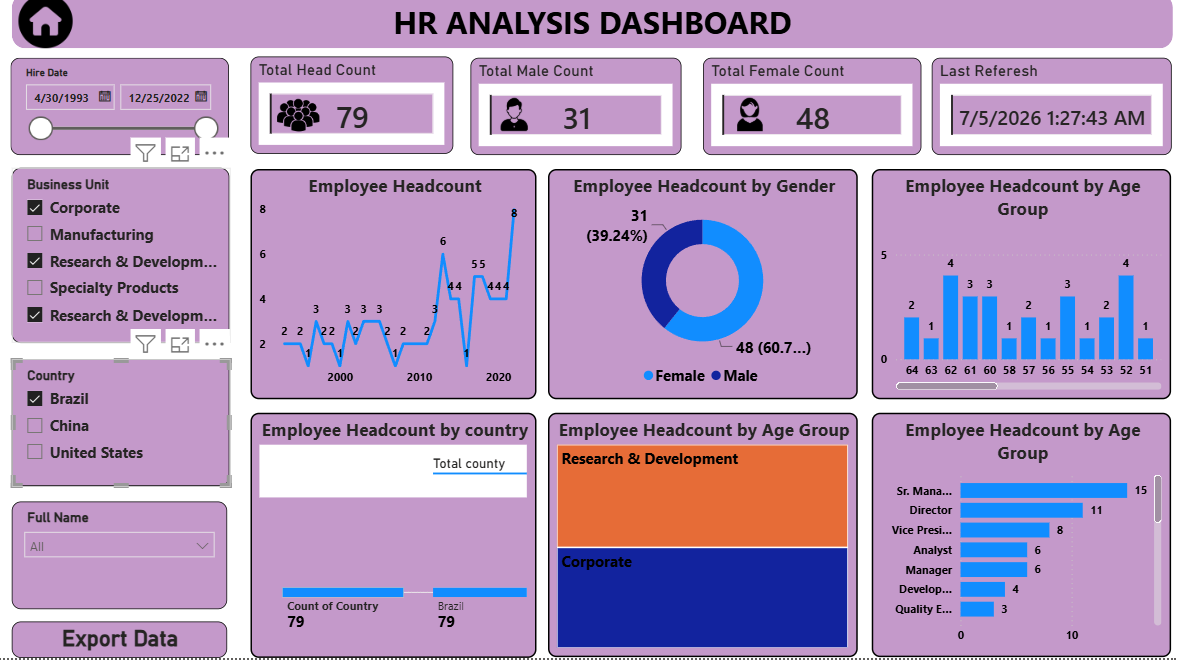

Layout of this report page (visuals, bound fields, positions):
{"tool":"powerbi","page":{"name":"HR Analysis","canvas":[1280,720],"ordinal":0},"visuals":[{"type":"lineChart","title":"Employee Headcount","fields":{"Category":["Employee Data.Hire Date.Variation.Date Hierarchy.Year"],"Y":["CountNonNull(Employee Data.Employee ID)"]},"box":[271.9,193.9,308.3,247.7],"z":0},{"type":"donutChart","title":"Employee Headcount by Gender","fields":{"Category":["Employee Data.Gender"],"Y":["CountNonNull(Employee Data.Employee ID)"]},"box":[592.8,193.5,333.4,248.4],"z":1000},{"type":"clusteredColumnChart","title":"Employee Headcount by Age Group","fields":{"Category":["Employee Data.Age"],"Y":["CountNonNull(Employee Data.Employee ID)"]},"box":[941.3,193.5,322.5,248.4],"z":2000},{"type":"decompositionTreeVisual","title":"Employee Headcount by country","fields":{"ExplainBy":["Employee Data.Country"],"Analyze":["CountNonNull(Employee Data.Country)"]},"box":[271.9,456.4,308.3,263.9],"z":3000},{"type":"treemap","title":"Employee Headcount by Age Group","fields":{"Group":["Employee Data.Business Unit"],"Values":["CountNonNull(Employee Data.Employee ID)"]},"box":[592.8,456.9,333.4,263.5],"z":4000},{"type":"clusteredBarChart","title":"Employee Headcount by Age Group","fields":{"Category":["Employee Data.Job Title"],"Y":["CountNonNull(Employee Data.Employee ID)"]},"box":[941.3,456.9,322.5,263.5],"z":5000},{"type":"cardVisual","title":"Total Head Count","fields":{"Data":["Employee Data.Total Gender"]},"box":[271.9,72.7,218.1,105],"z":6000},{"type":"cardVisual","title":"Total Male Count","fields":{"Data":["Employee Data.Total Male count"]},"box":[508.9,74,227.5,105],"z":7000},{"type":"cardVisual","title":"Last Referesh","fields":{"Data":["Min(Query1.Last Referesh)"]},"box":[1005.6,74,258.5,105],"z":8000},{"type":"shape","title":"HR ANALYSIS DASHBOARD","box":[15.4,5.6,1250.7,58.7],"z":9000},{"type":"slicer","fields":{"Values":["Employee Data.Hire Date"]},"box":[13.4,74,235.3,104.9],"z":9001},{"type":"slicer","fields":{"Values":["Employee Data.Full Name"]},"box":[15.4,552,232,116],"z":9002},{"type":"slicer","fields":{"Values":["Employee Data.Business Unit"]},"box":[15.4,192.8,234.8,188.6],"z":9003},{"type":"slicer","fields":{"Values":["Employee Data.Country"]},"box":[15.4,398.3,234.8,136.9],"z":9004},{"type":"cardVisual","title":"Total Female Count","fields":{"Data":["Employee Data.Total Female count"]},"box":[759.3,74,235.6,105],"z":9005},{"type":"image","box":[281.4,113.1,83.5,45.8],"z":9006},{"type":"image","box":[15.4,5.6,72.7,58.7],"z":9007},{"type":"image","box":[499.5,117.1,113.1,36.3],"z":9008},{"type":"image","box":[771.4,117.1,76.7,36.3],"z":9009},{"type":"tableEx","title":"Export Data","fields":{"Values":["Employee Data.Full Name","Employee Data.Gender","Sum(Employee Data.Annual Salary)","Employee Data.Employee ID"]},"box":[15.4,680.5,232,39.1],"z":9010}]}

Visuals, with their boxes in screenshot pixels (x1, y1, x2, y2), scaled from the page's 1280x720 canvas onto the 1177x662 screenshot:
"Employee Headcount" lineChart: crop(250, 178, 534, 406)
"Employee Headcount by Gender" donutChart: crop(545, 178, 852, 406)
"Employee Headcount by Age Group" clusteredColumnChart: crop(866, 178, 1162, 406)
"Employee Headcount by country" decompositionTreeVisual: crop(250, 420, 534, 661)
"Employee Headcount by Age Group" treemap: crop(545, 420, 852, 661)
"Employee Headcount by Age Group" clusteredBarChart: crop(866, 420, 1162, 661)
"Total Head Count" cardVisual: crop(250, 67, 451, 163)
"Total Male Count" cardVisual: crop(468, 68, 677, 165)
"Last Referesh" cardVisual: crop(925, 68, 1162, 165)
"HR ANALYSIS DASHBOARD" shape: crop(14, 5, 1164, 59)
slicer - Employee Data.Hire Date: crop(12, 68, 229, 164)
slicer - Employee Data.Full Name: crop(14, 508, 227, 614)
slicer - Employee Data.Business Unit: crop(14, 177, 230, 351)
slicer - Employee Data.Country: crop(14, 366, 230, 492)
"Total Female Count" cardVisual: crop(698, 68, 915, 165)
image: crop(259, 104, 336, 146)
image: crop(14, 5, 81, 59)
image: crop(459, 108, 563, 141)
image: crop(709, 108, 780, 141)
"Export Data" tableEx: crop(14, 626, 227, 661)
